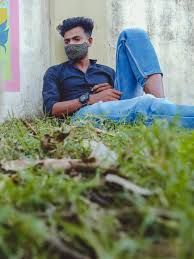with-mask: (54, 16, 97, 64)
